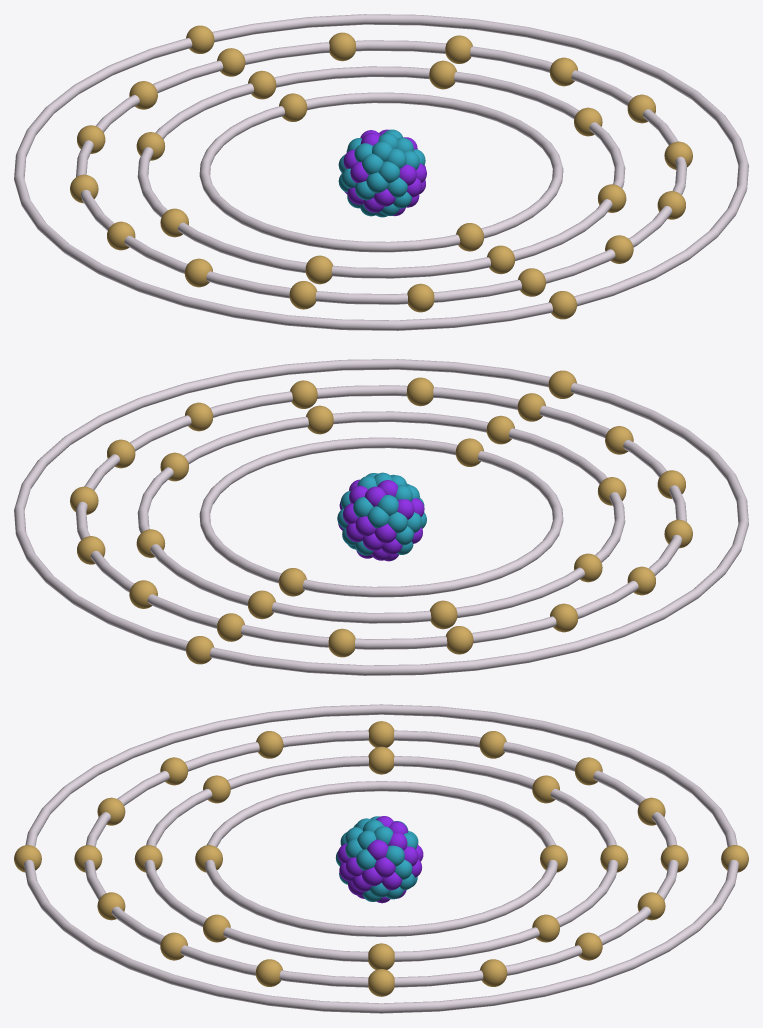
The model's file is niquel.glb.
3 views of the same model, one above another, from view 1: azimuth 30°, elevation 25°; view 2: azimuth 150°, elevation 25°; view 3: azimuth 270°, elevation 25° (orthographic). The views are drawn at different scales.
Parts seen in each view (by area): view 1: Orbita_4, Orbita_3, Orbita_2, Orbita_1, Nucleo_Completo, Eletron_C2_8, Eletron_C3_8, Eletron_C3_16, Eletron_C3_15, Eletron_C2_4, Eletron_C3_7, Eletron_C2_1 (+21 smaller); view 2: Orbita_4, Orbita_3, Orbita_2, Orbita_1, Nucleo_Completo, Eletron_C2_6, Eletron_C3_2, Eletron_C3_10, Eletron_C3_11, Eletron_C2_2, Eletron_C3_3, Eletron_C2_5 (+21 smaller); view 3: Orbita_4, Orbita_3, Orbita_2, Orbita_1, Nucleo_Completo, Eletron_C3_5, Eletron_C2_7, Eletron_C2_3, Eletron_C3_12, Eletron_C3_14, Eletron_C3_4, Eletron_C3_6 (+21 smaller).
Boxes of the visible parts, box(x1,y1,x2,y2) form: Orbita_4: box(14, 14, 748, 330); Orbita_3: box(76, 40, 686, 304); Orbita_2: box(137, 66, 625, 278); Orbita_1: box(199, 92, 563, 252); Nucleo_Completo: box(338, 129, 426, 217); Eletron_C2_8: box(305, 255, 332, 284); Eletron_C3_8: box(329, 32, 356, 61); Eletron_C3_16: box(407, 283, 434, 312); Eletron_C3_15: box(289, 281, 316, 309); Eletron_C2_4: box(429, 60, 456, 89); Eletron_C3_7: box(445, 35, 472, 63); Eletron_C2_1: box(487, 245, 514, 274); Orbita_4: box(14, 359, 748, 675); Orbita_3: box(76, 385, 686, 649); Orbita_2: box(137, 411, 625, 623); Orbita_1: box(199, 437, 563, 597); Nucleo_Completo: box(337, 472, 426, 561); Eletron_C2_6: box(430, 600, 457, 629); Eletron_C3_2: box(406, 377, 433, 406); Eletron_C3_10: box(328, 628, 355, 657); Eletron_C3_11: box(446, 626, 473, 654); Eletron_C2_2: box(306, 405, 333, 434); Eletron_C3_3: box(290, 380, 317, 408); Eletron_C2_5: box(248, 590, 275, 619); Orbita_4: box(24, 704, 738, 1013); Orbita_3: box(84, 730, 678, 987); Orbita_2: box(144, 756, 618, 961); Orbita_1: box(205, 781, 557, 936); Nucleo_Completo: box(335, 816, 423, 903); Eletron_C3_5: box(368, 969, 394, 996); Eletron_C2_7: box(368, 746, 394, 774); Eletron_C2_3: box(368, 943, 394, 969); Eletron_C3_12: box(479, 731, 506, 758); Eletron_C3_14: box(256, 731, 283, 758); Eletron_C3_4: box(255, 959, 282, 986); Eletron_C3_6: box(480, 959, 507, 986).
Bounding box in the file's own units: 4.16 × 0.5056 × 4.26.
